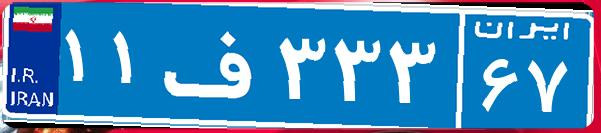1: (57, 26, 110, 107), (110, 28, 158, 105)
3: (385, 28, 445, 110), (273, 28, 330, 110), (330, 28, 385, 110)
6: (475, 38, 525, 113)
7: (525, 38, 570, 115)
ف: (158, 15, 273, 115)
